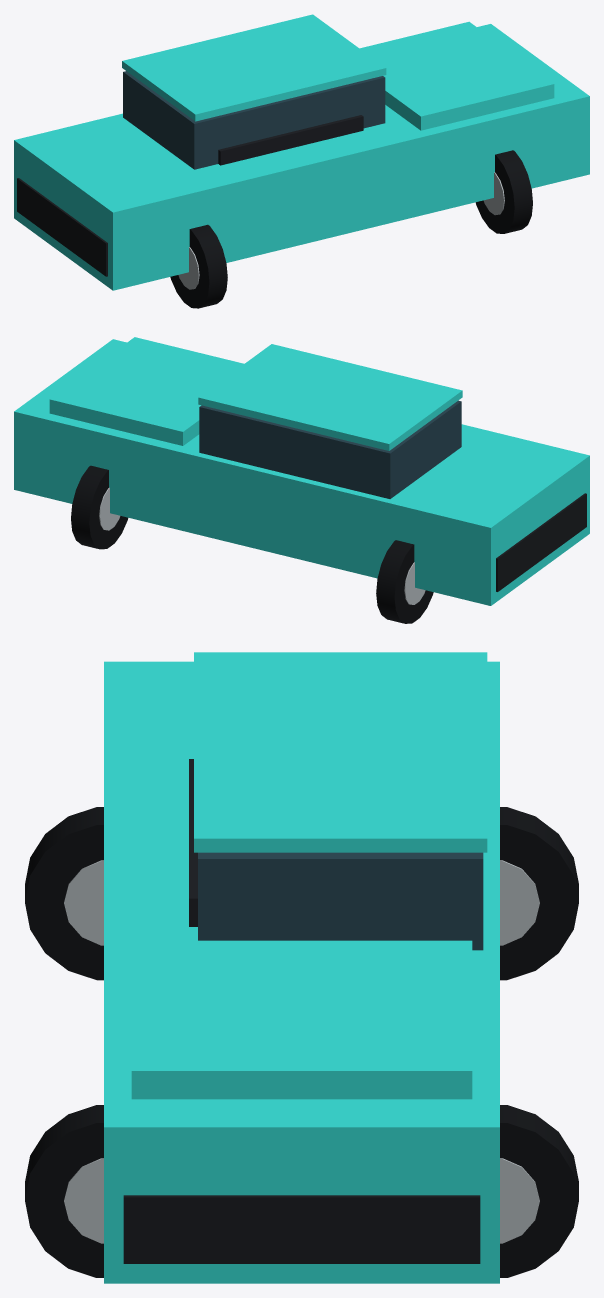
Rendered from ford_f_150.glb.
3 renders of one model, top to bottom at view 1: azimuth 30°, elevation 25°; view 2: azimuth 150°, elevation 25°; view 3: azimuth 270°, elevation 25°, orthographic. The views are drawn at different scales.
Parts seen in each view (by area): view 1: body, roof, hood, cabin, rear_bumper, rear_right_wheel, front_right_wheel, interior; view 2: body, roof, cabin, hood, rear_bumper, rear_left_wheel, front_left_wheel; view 3: body, roof, hood, cabin, front_bumper, rear_left_wheel, rear_right_wheel, front_left_wheel, front_right_wheel, interior.
Boxes of the visible parts, <box> form: body: <box>14,24,589,290</box>; roof: <box>122,14,386,121</box>; hood: <box>360,21,554,130</box>; cabin: <box>123,71,385,169</box>; rear_bumper: <box>17,178,107,276</box>; rear_right_wheel: <box>170,224,227,308</box>; front_right_wheel: <box>475,150,532,233</box>; interior: <box>218,115,363,165</box>; body: <box>14,339,589,605</box>; roof: <box>198,344,462,450</box>; cabin: <box>199,400,461,498</box>; hood: <box>49,337,244,445</box>; rear_bumper: <box>496,493,586,591</box>; rear_left_wheel: <box>376,540,433,623</box>; front_left_wheel: <box>71,465,128,549</box>; body: <box>104,661,499,1283</box>; roof: <box>194,652,487,852</box>; hood: <box>131,940,472,1099</box>; cabin: <box>198,852,483,950</box>; front_bumper: <box>123,1195,480,1263</box>; rear_left_wheel: <box>500,807,578,980</box>; rear_right_wheel: <box>25,807,103,980</box>; front_left_wheel: <box>500,1105,578,1277</box>; front_right_wheel: <box>25,1105,103,1277</box>; interior: <box>189,759,197,926</box>.
Bounding box in the file's own units: 5.75 × 1.93 × 2.87.
